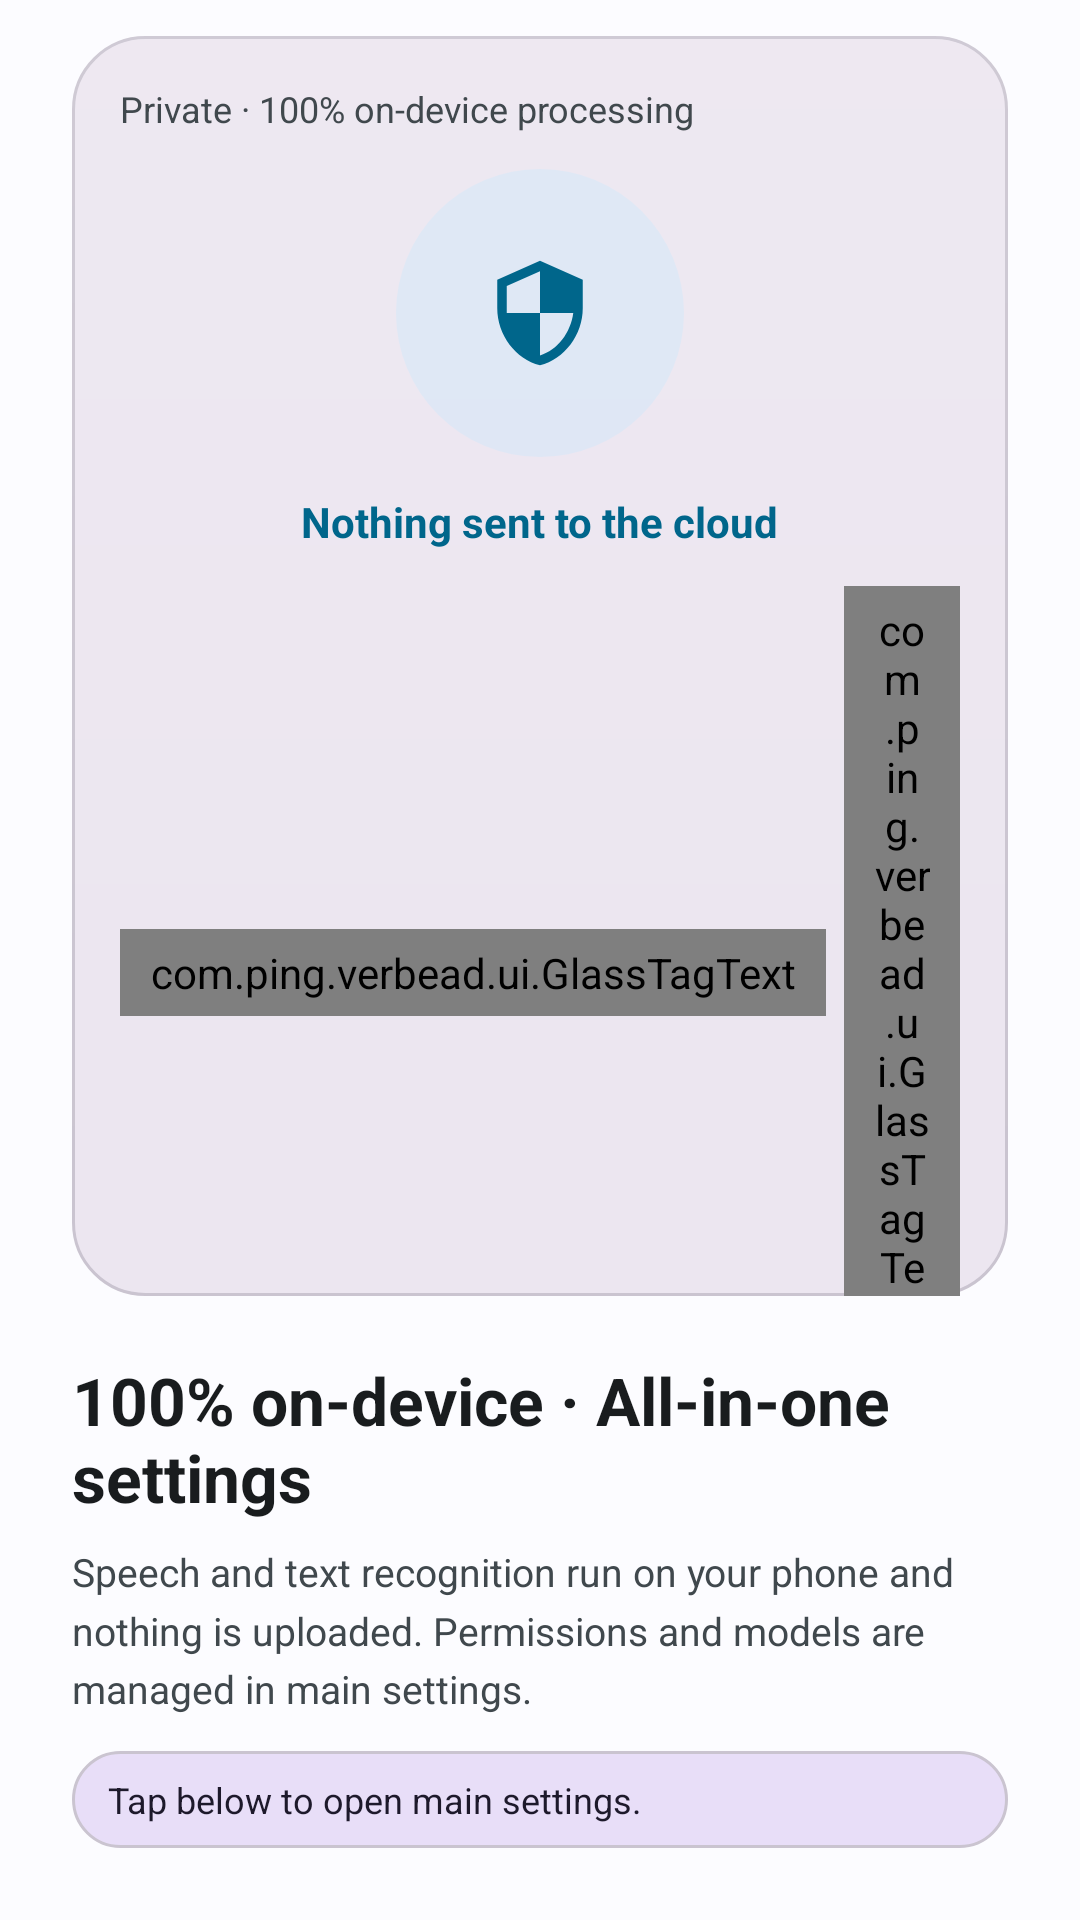

Screen size 1080px×1920px. Icon name, then its center in pixels as [x,y]:
security: [540,313]
